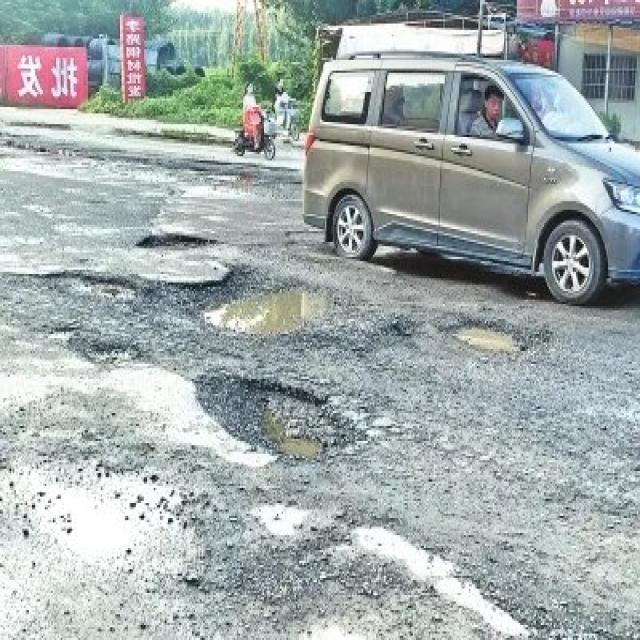pothole: (210, 366, 362, 467), (194, 279, 346, 343), (424, 315, 533, 367), (133, 225, 215, 257), (82, 336, 141, 370)
